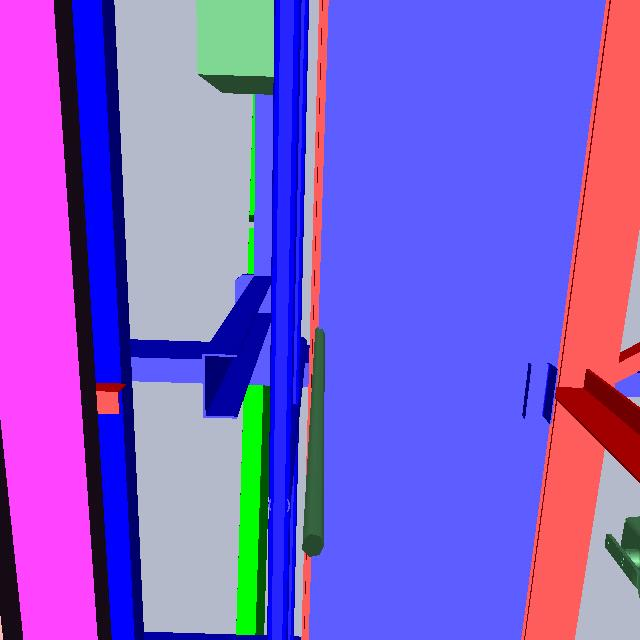Poste: (296, 325, 334, 568)
Soporte: (198, 267, 292, 426)
